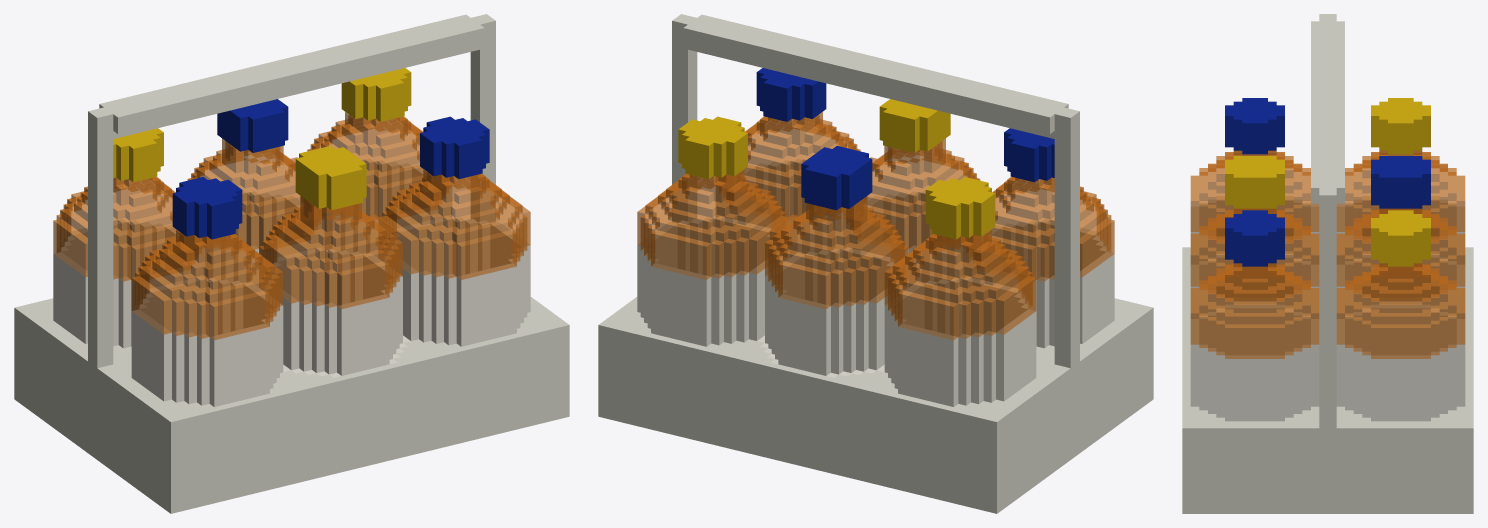
Rendered from anesthetic_kit.glb.
3 views of the same model, side by side, from view 1: azimuth 30°, elevation 25°; view 2: azimuth 150°, elevation 25°; view 3: azimuth 270°, elevation 25° (orthographic). The views are drawn at different scales.
Parts seen in each view (by area): view 1: anesthetic_kit:compound; view 2: anesthetic_kit:compound; view 3: anesthetic_kit:compound.
Part boxes in pixels (<box>): anesthetic_kit:compound: <box>14,14,569,513</box>; anesthetic_kit:compound: <box>598,14,1153,513</box>; anesthetic_kit:compound: <box>1182,14,1473,513</box>.
Size of the model in its own units: 0.2 by 0.164 by 0.136.
